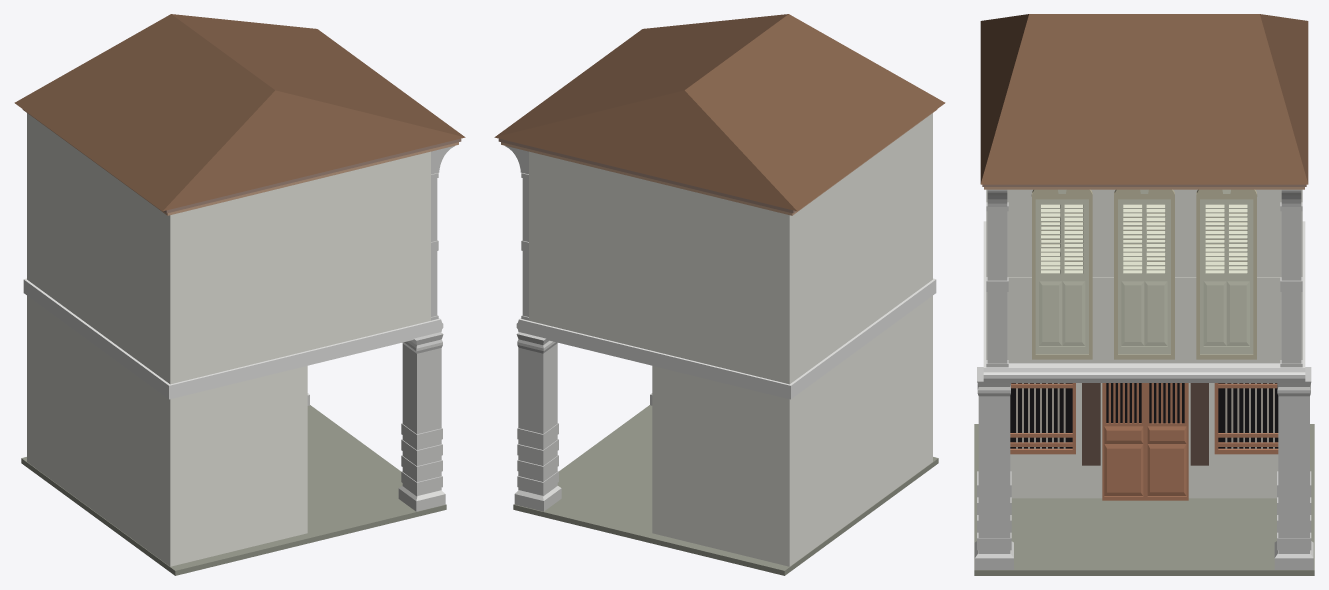
Rendered from 1890 Shophouse.fbx.
The picture shows the model from 3 angles, left to right: view 1: azimuth 30°, elevation 25°; view 2: azimuth 150°, elevation 25°; view 3: azimuth 270°, elevation 25°; orthographic projection. The views are drawn at different scales.
Parts seen in each view (by area): view 1: Cube, Cylinder.003, Cube.017, Cube.012, Cube.009, Cube.001, Cube.010, Cube.011; view 2: Cube, Cylinder.003, Cube.017, Cube.013, Cube.009, Cube.002, Cube.010, Cube.011; view 3: Cylinder.003, Cube, Cube.017, Cube.005, Cube.007, Cube.003, Cube.014, Cube.009, Cube.012, Cube.013, Cube.001, Cube.002 (+15 smaller).
Part boxes in pixels (x1,y1,x2,y2): Cube: (27, 113, 430, 566); Cylinder.003: (14, 14, 465, 211); Cube.017: (21, 405, 446, 575); Cube.012: (398, 332, 445, 511); Cube.009: (23, 278, 443, 399); Cube.001: (431, 146, 454, 320); Cube.010: (22, 109, 458, 215); Cube.011: (164, 138, 461, 213); Cube: (529, 113, 932, 566); Cylinder.003: (494, 14, 945, 211); Cube.017: (513, 405, 938, 575); Cube.013: (514, 332, 561, 511); Cube.009: (516, 278, 936, 399); Cube.002: (505, 146, 528, 320); Cube.010: (501, 109, 937, 215); Cube.011: (498, 138, 795, 213); Cylinder.003: (980, 14, 1308, 184); Cube: (986, 189, 1302, 498); Cube.017: (974, 424, 1314, 575); Cube.005: (1200, 199, 1253, 354); Cube.007: (1035, 199, 1088, 354); Cube.003: (1118, 199, 1170, 354); Cube.014: (1102, 383, 1188, 500); Cube.009: (983, 221, 1305, 382); Cube.012: (974, 367, 1013, 569); Cube.013: (1274, 367, 1313, 569); Cube.001: (986, 189, 1008, 367); Cube.002: (1280, 189, 1302, 367).
Size of the model in its own units: 2445 by 3367 by 2152.
